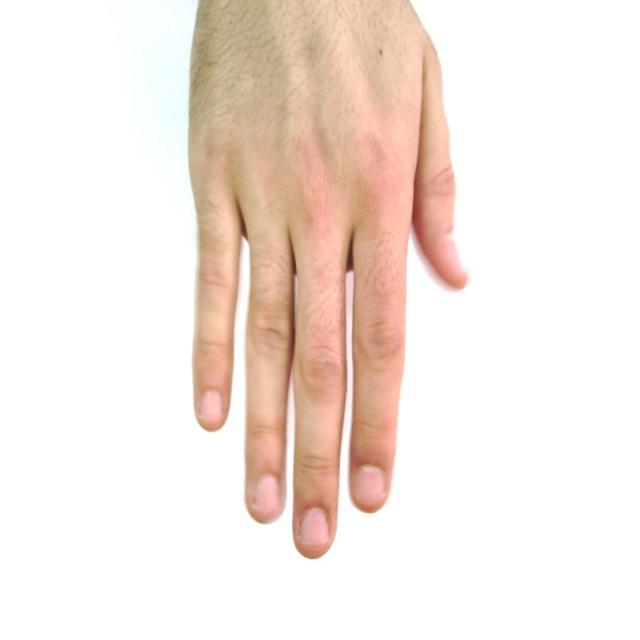Fingernail: (300, 508, 329, 546), (355, 466, 384, 504), (255, 476, 280, 515), (200, 391, 222, 419)
